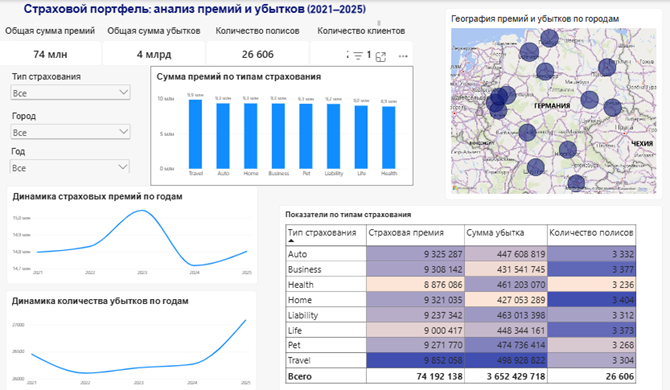

Layout of this report page (visuals, bound fields, positions):
{"tool":"powerbi","page":{"name":"Страница 1","canvas":[1920,1080],"ordinal":0},"visuals":[{"type":"cardVisual","title":"Общая сумма премий","fields":{"Data":["Sum(insurance_policies_claims_2018_2025_clean.Страховая премия)"]},"box":[10.8,69.4,278.7,108.4],"z":0},{"type":"cardVisual","title":"Количество полисов","fields":{"Data":["insurance_policies_claims_2018_2025_clean.Количество полисов"]},"box":[570.4,69.4,278.7,108.4],"z":1000},{"type":"cardVisual","title":"Количество клиентов","fields":{"Data":["insurance_policies_claims_2018_2025_clean.Количество клиентов"]},"box":[850.1,69.4,278.7,108.4],"z":2000},{"type":"lineChart","title":"Динамика страховых премий по годам","fields":{"Category":["insurance_policies_claims_2018_2025_clean.Дата начала полиса.Variation.Иерархия дат.Год","insurance_policies_claims_2018_2025_clean.Дата начала полиса.Variation.Иерархия дат.Квартал","insurance_policies_claims_2018_2025_clean.Дата начала полиса.Variation.Иерархия дат.Месяц","insurance_policies_claims_2018_2025_clean.Дата начала полиса.Variation.Иерархия дат.День"],"Y":["Sum(insurance_policies_claims_2018_2025_clean.Страховая премия)"]},"box":[32.5,501,677.8,265.2],"z":3000},{"type":"lineChart","title":"Динамика количества убытков по годам","fields":{"Category":["insurance_policies_claims_2018_2025_clean.Дата убытка.Variation.Иерархия дат.Год","insurance_policies_claims_2018_2025_clean.Дата убытка.Variation.Иерархия дат.Квартал","insurance_policies_claims_2018_2025_clean.Дата убытка.Variation.Иерархия дат.Месяц","insurance_policies_claims_2018_2025_clean.Дата убытка.Variation.Иерархия дат.День"],"Y":["Sum(insurance_policies_claims_2018_2025_clean.Кол-во убытков)"]},"box":[31,781.9,677.4,280.6],"z":4000},{"type":"clusteredColumnChart","title":"Сумма премий по типам страхования","fields":{"Category":["insurance_policies_claims_2018_2025_clean.Тип страхования"],"Y":["Sum(insurance_policies_claims_2018_2025_clean.Страховая премия)"]},"box":[420.7,177.8,709.2,323.1],"z":5000},{"type":"tableEx","title":"Показатели по типам страхования","fields":{"Values":["insurance_policies_claims_2018_2025_clean.Тип страхования","Sum(insurance_policies_claims_2018_2025_clean.Страховая премия)","Sum(insurance_policies_claims_2018_2025_clean.Сумма убытка)","insurance_policies_claims_2018_2025_clean.Количество полисов"]},"box":[768.4,553.5,1033.5,509],"z":6000},{"type":"slicer","fields":{"Values":["insurance_policies_claims_2018_2025_clean.Тип страхования"]},"box":[39,193,332.5,80.4],"z":7000},{"type":"slicer","fields":{"Values":["insurance_policies_claims_2018_2025_clean.Город"]},"box":[39,299.3,332.5,80.4],"z":8000},{"type":"slicer","title":"Год","fields":{"Values":["insurance_policies_claims_2018_2025_clean.Дата начала полиса.Variation.Иерархия дат.Год"]},"box":[37.5,394.2,332.5,72.4],"z":9000},{"type":"map","title":"География премий и убытков по городам","fields":{"Category":["insurance_policies_claims_2018_2025_clean.Город"],"Size":["Sum(insurance_policies_claims_2018_2025_clean.Страховая премия)"]},"box":[1213.5,21.3,588.4,516.8],"z":10000},{"type":"cardVisual","title":"Общая сумма убытков","fields":{"Data":["Sum(insurance_policies_claims_2018_2025_clean.Сумма убытка)"]},"box":[290.6,69.4,278.7,108.4],"z":11000},{"type":"textbox","title":"Страховой портфель: анализ премий и убытков (2021–2025)","box":[39,6.5,1001.9,62.9],"z":12000}]}

Visuals, with their boxes on the page's 1920x1080 design canvas (x1, y1, x2, y2). These are canvas units, not pixel positions in the 670x390 screenshot, which may show the page scaled, cropped or inside an application window:
"Общая сумма премий" cardVisual: box=[11, 69, 290, 178]
"Количество полисов" cardVisual: box=[570, 69, 849, 178]
"Количество клиентов" cardVisual: box=[850, 69, 1129, 178]
"Динамика страховых премий по годам" lineChart: box=[32, 501, 710, 766]
"Динамика количества убытков по годам" lineChart: box=[31, 782, 708, 1062]
"Сумма премий по типам страхования" clusteredColumnChart: box=[421, 178, 1130, 501]
"Показатели по типам страхования" tableEx: box=[768, 554, 1802, 1062]
slicer - insurance_policies_claims_2018_2025_clean.Тип страхования: box=[39, 193, 372, 273]
slicer - insurance_policies_claims_2018_2025_clean.Город: box=[39, 299, 372, 380]
"Год" slicer: box=[38, 394, 370, 467]
"География премий и убытков по городам" map: box=[1214, 21, 1802, 538]
"Общая сумма убытков" cardVisual: box=[291, 69, 569, 178]
"Страховой портфель: анализ премий и убытков (2021–2025)" textbox: box=[39, 6, 1041, 69]
